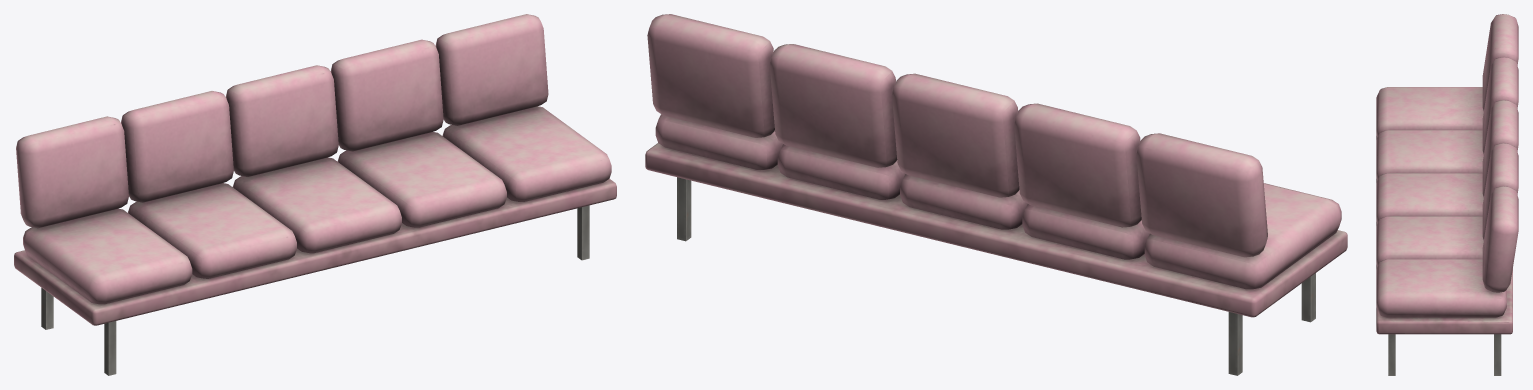
File: pink_bench.fbx
3 renders of one model, left to right at view 1: azimuth 30°, elevation 25°; view 2: azimuth 150°, elevation 25°; view 3: azimuth 270°, elevation 25°, orthographic. The views are drawn at different scales.
Visible parts, largest first — view 1: Body; view 2: Body; view 3: Body.
Boxes of the visible parts, box(x1,y1,x2,y2) form: Body: box(14, 14, 616, 375); Body: box(645, 14, 1347, 375); Body: box(1376, 14, 1518, 375).
Bounding box in the file's own units: 8.2 × 2.85 × 2.29.
1 material, 1 textured.
